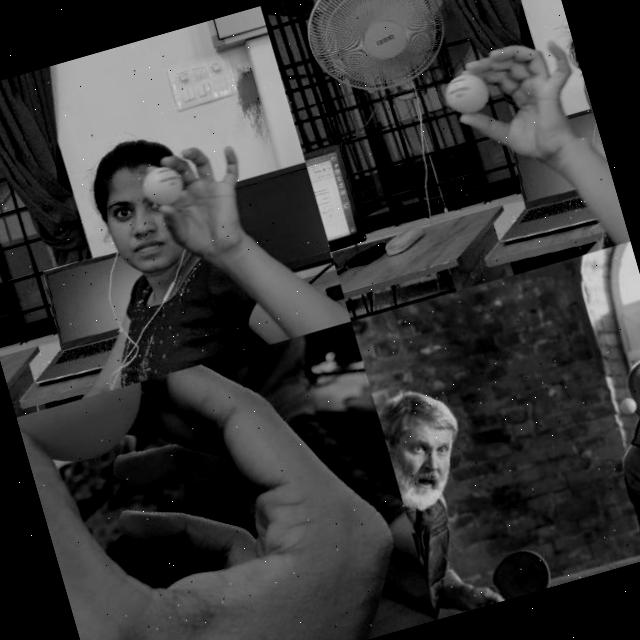ping-pong-ball: (15, 380, 157, 473), (138, 160, 188, 208), (443, 68, 492, 116), (618, 396, 638, 416)
